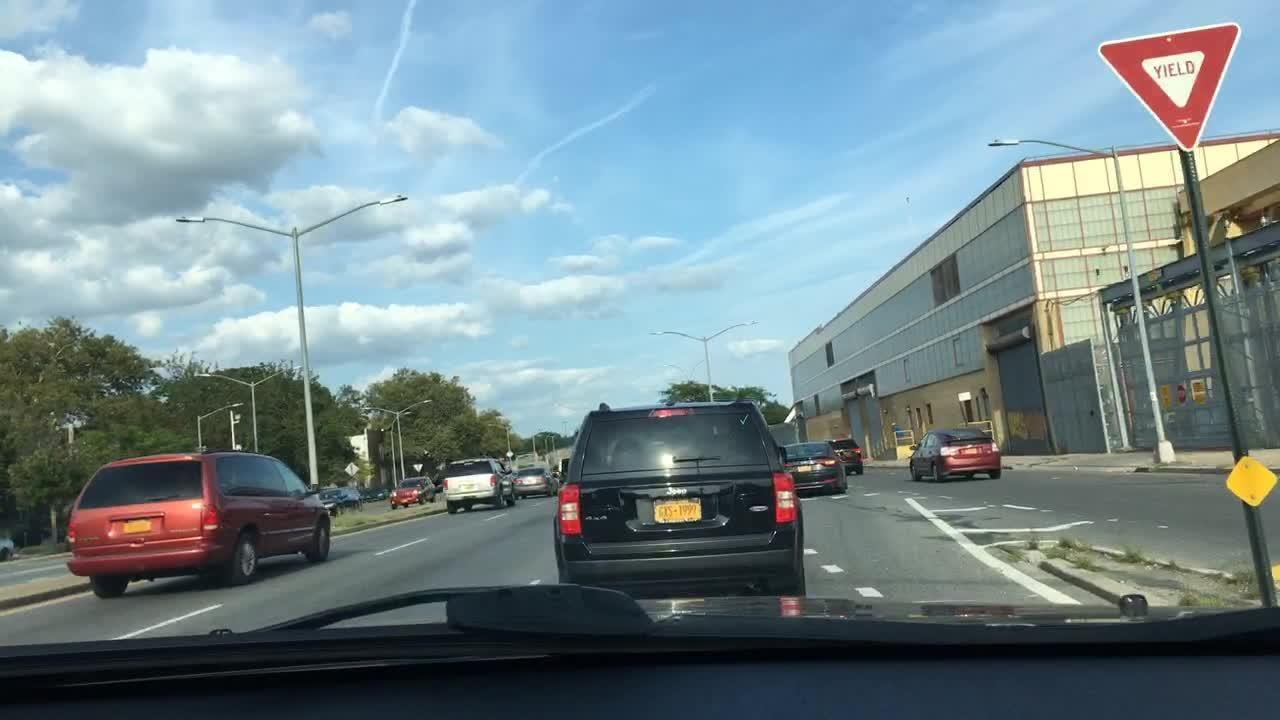jeep: (657, 483, 696, 501)
